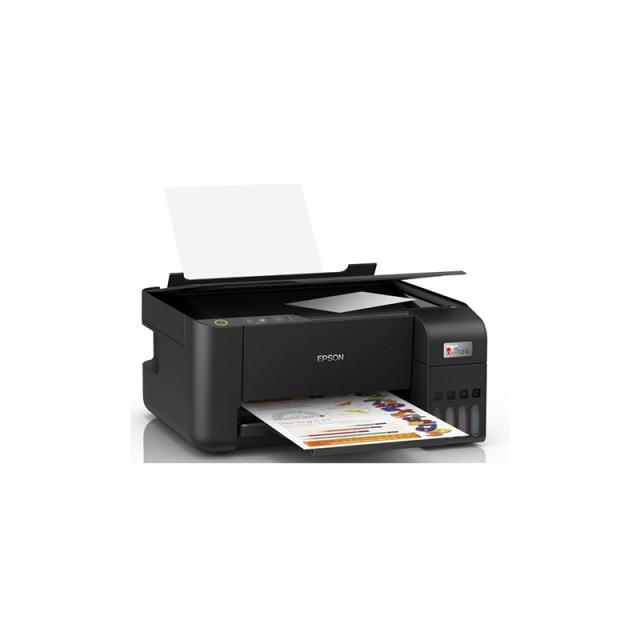printer: (139, 182, 488, 455)
